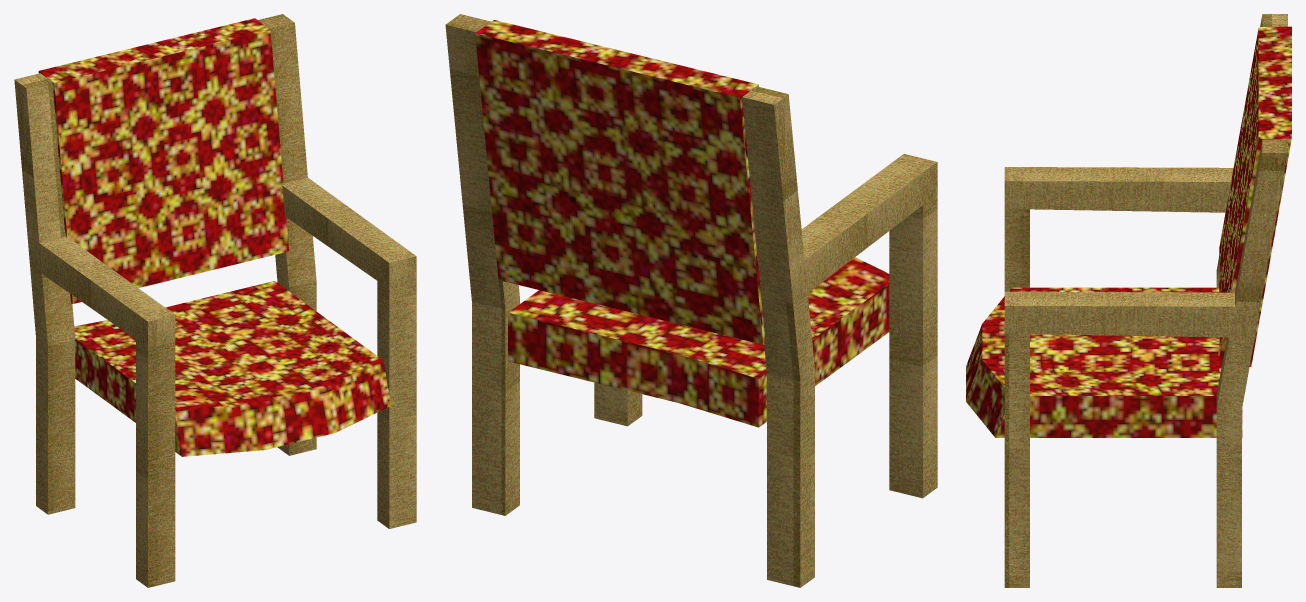
File: Chair01.fbx
3 renders of one model, left to right at view 1: azimuth 30°, elevation 25°; view 2: azimuth 150°, elevation 25°; view 3: azimuth 270°, elevation 25°, orthographic. The views are drawn at different scales.
Parts seen in each view (by area): view 1: Chair01; view 2: Chair01; view 3: Chair01.
Part boxes in pixels (bbox=[...]): Chair01: bbox=[14, 14, 416, 587]; Chair01: bbox=[445, 14, 937, 587]; Chair01: bbox=[966, 14, 1291, 587].
Bounding box in the file's own units: 205 × 301 × 203.
